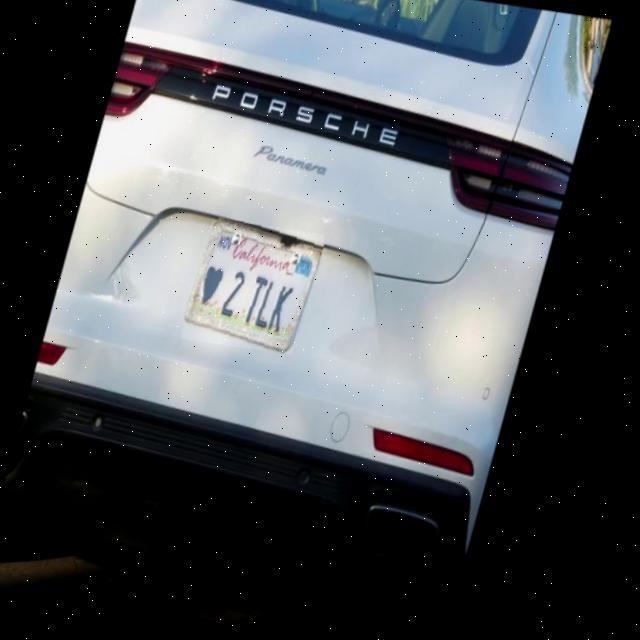LicensePlate: (185, 216, 331, 363)
